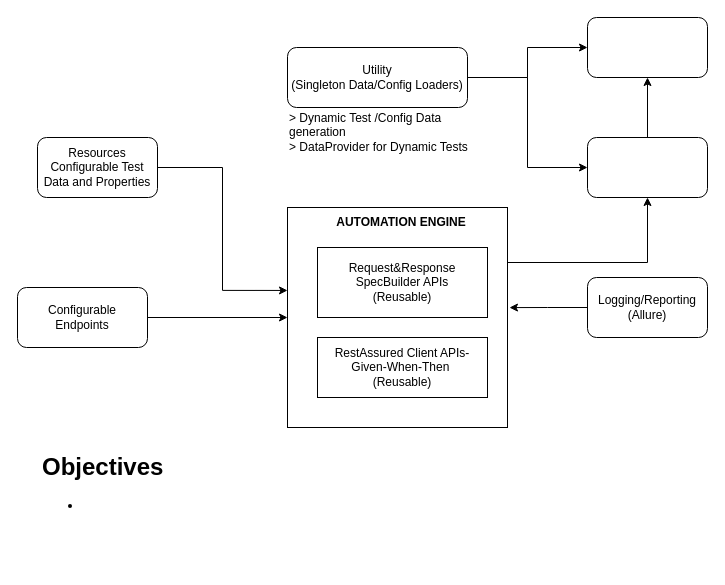
The diagram is 725 pixels wide and 585 high, and some of its shapes have lost their labels. The centre of each missing label's shape, as x and y in pixels:
"Test Clsss" goes at (647,47).
"Test Libraries (Reusable)" goes at (647,167).
